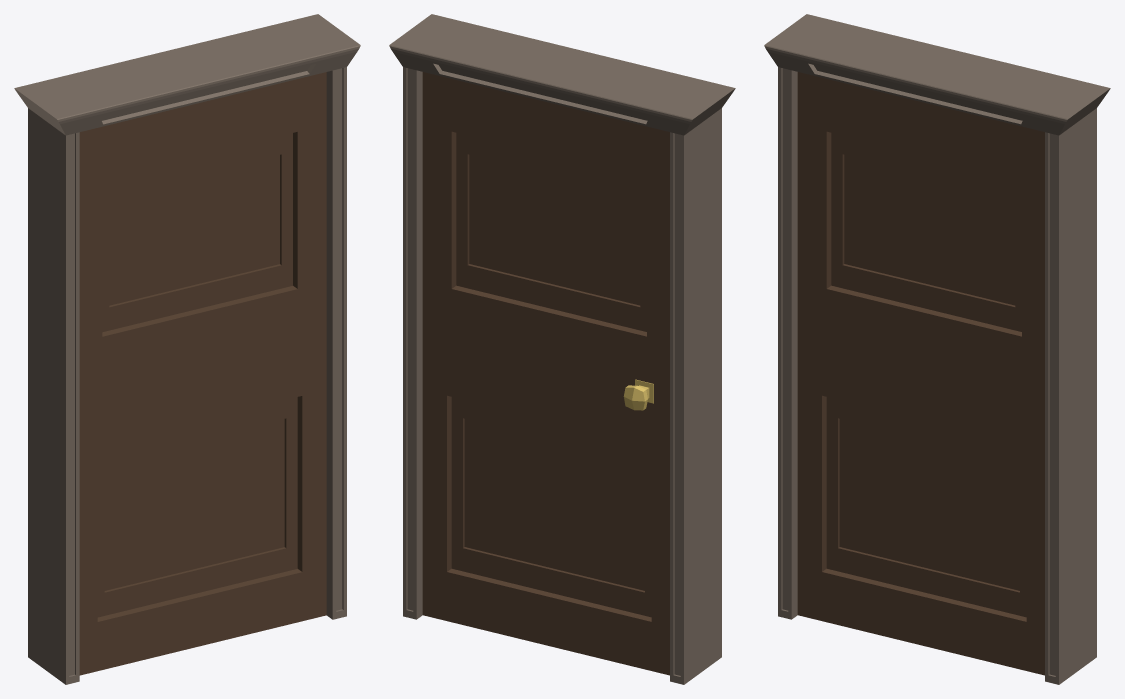
Rendered from Door_Textured.fbx.
The picture shows the model from 3 angles, left to right: view 1: azimuth 30°, elevation 25°; view 2: azimuth 150°, elevation 25°; view 3: azimuth 330°, elevation 25°; orthographic projection.
Visible parts, largest first — view 1: FrameWithDoor; view 2: FrameWithDoor; view 3: FrameWithDoor.
Boxes of the visible parts, bbox=[...] form: FrameWithDoor: bbox=[14, 14, 360, 684]; FrameWithDoor: bbox=[389, 14, 735, 684]; FrameWithDoor: bbox=[764, 14, 1110, 684].
Size of the model in its own units: 214 by 383 by 57.4.
